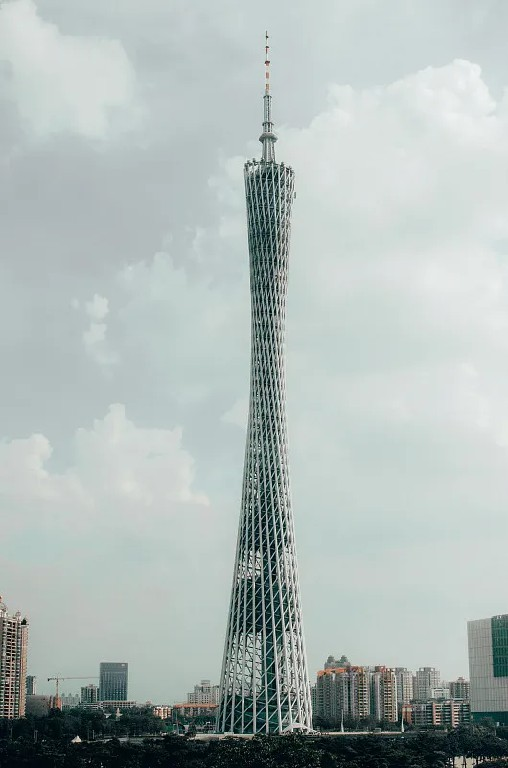Canton: (220, 27, 317, 733)
